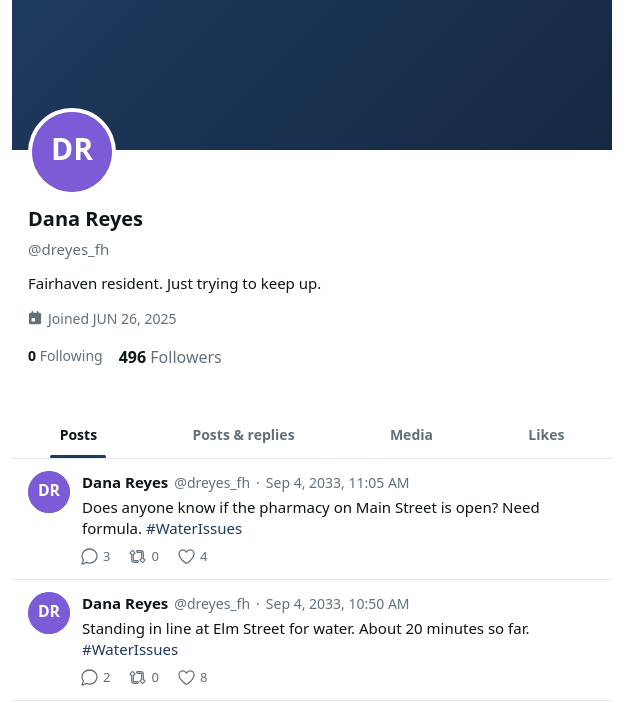
Test: Profile Likes — a read-only (observer) session bound to the persona › says "Likes are private." on the persona’s own page and lists nothing
Expected: the heading "Dana Reyes" is shown, [28, 204, 143, 234]
Click the tab "Likes" at (546, 434), box [481, 410, 612, 458]
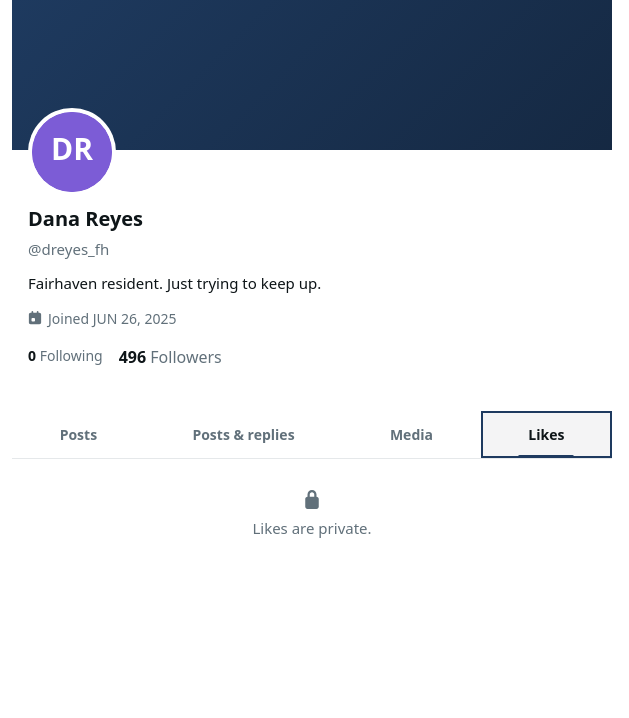
Expected: the element with test id "profile-likes-private" reads "Likes are private.", [252, 518, 372, 538]
Expected: the element with test id "post-card" is gone
